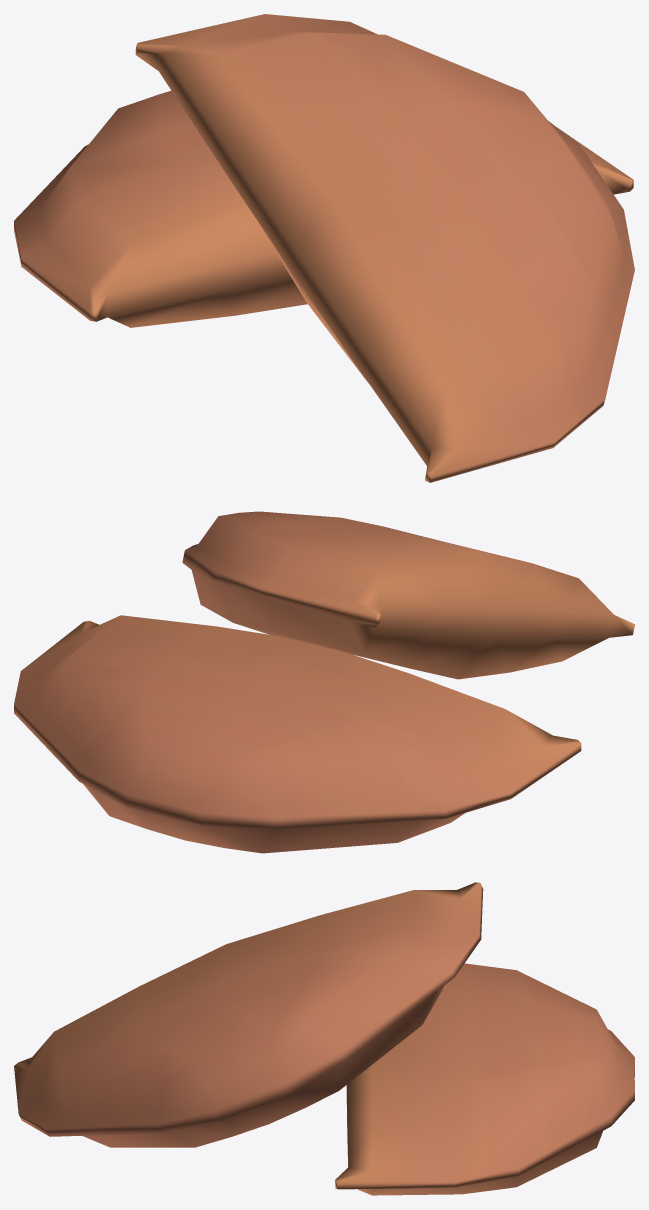
Rendered from Patties.fbx.
3 views of the same model, one above another, from view 1: azimuth 30°, elevation 25°; view 2: azimuth 150°, elevation 25°; view 3: azimuth 270°, elevation 25° (orthographic). The views are drawn at different scales.
Parts seen in each view (by area): view 1: Patties; view 2: Patties; view 3: Patties.
Part boxes in pixels (box(x1,y1,x2,y2)): Patties: box(14, 14, 634, 482); Patties: box(14, 511, 634, 853); Patties: box(14, 882, 634, 1195).
Bounding box in the file's own units: 26.68 × 11.75 × 32.66.
